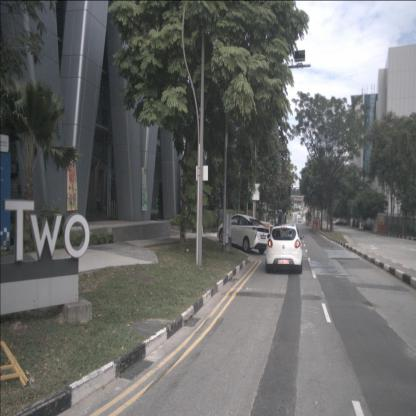barrier: (378, 225, 386, 233), (373, 223, 378, 232), (312, 221, 318, 228)
